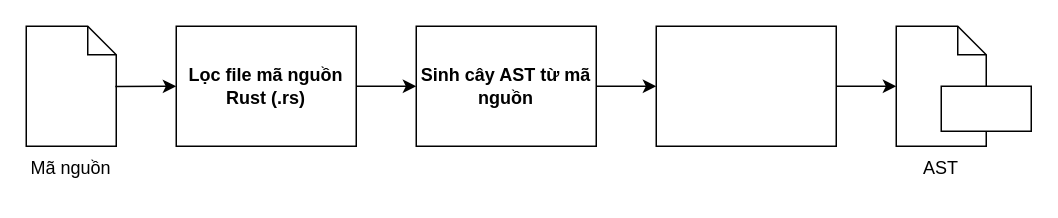
The diagram is 1058 pixels wide and 218 high, and some of its shapes have lost their labels. The centre of each missing label's shape, as x and y in pixels:
Chuyển cây AST thành dạng dữ liệu trung gian (JSON): (745,85)
JSON (.json): (985,108)
